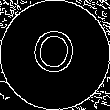O_S: (29, 26, 81, 84)
